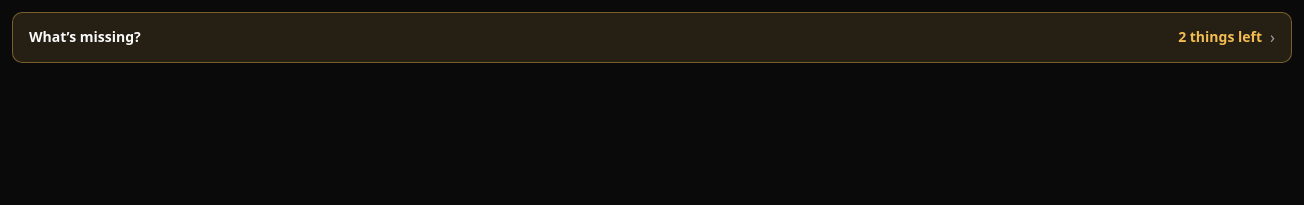
Scenario: What's missing? › lists the things themselves, in plain English
Click the button "What’s missing? 2 things left ›" at (85, 37), box [13, 13, 1291, 62]
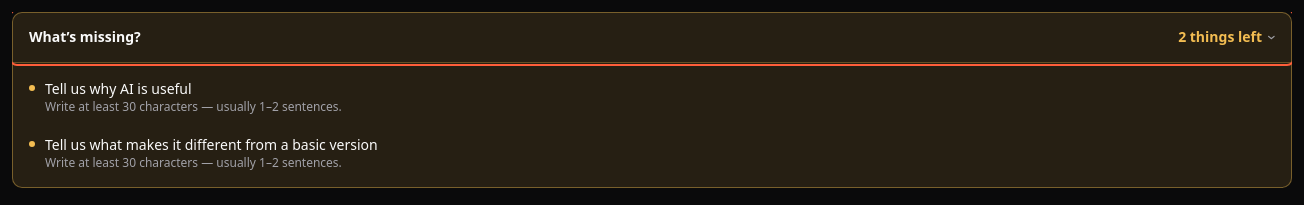
Check: the button with test id "missing-item-whyAiNecessary" shows "Tell us why AI is useful", box [21, 71, 1283, 123]
Check: the button with test id "missing-item-differentiation" shows "what makes it different", box [21, 127, 1283, 179]
